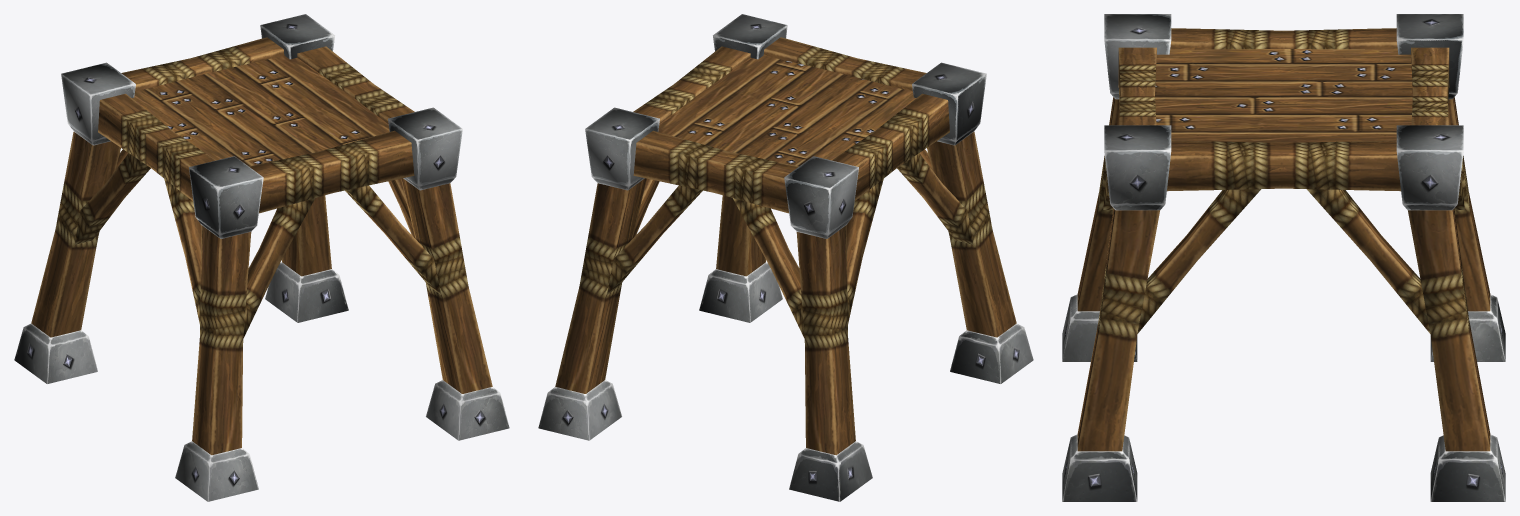
The model's file is Tower_B_L2.FBX.
The picture shows the model from 3 angles, left to right: view 1: azimuth 30°, elevation 25°; view 2: azimuth 150°, elevation 25°; view 3: azimuth 270°, elevation 25°; orthographic projection. The views are drawn at different scales.
Visible parts, largest first — view 1: Tower_B_L2; view 2: Tower_B_L2; view 3: Tower_B_L2.
Boxes of the visible parts, x1=… form: Tower_B_L2: x1=14, y1=14, x2=509, y2=501; Tower_B_L2: x1=538, y1=14, x2=1033, y2=501; Tower_B_L2: x1=1062, y1=14, x2=1505, y2=501.
Size of the model in its own units: 3.68 by 4.09 by 3.42.
